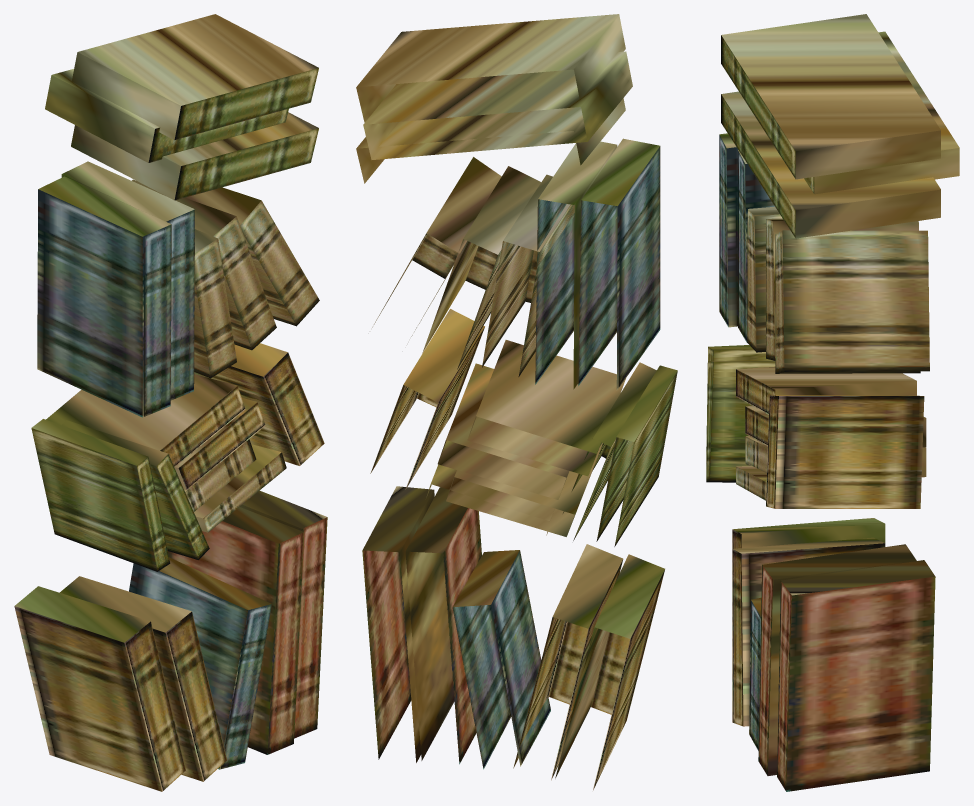
The model's file is book34_2.glb.
The picture shows the model from 3 angles, left to right: view 1: azimuth 30°, elevation 25°; view 2: azimuth 150°, elevation 25°; view 3: azimuth 270°, elevation 25°; orthographic projection. The views are drawn at different scales.
Visible parts, largest first — view 1: book34_2; view 2: book34_2; view 3: book34_2.
Part boxes in pixels (left/top/right/bottom): book34_2: left=14, top=14, right=327, bottom=791; book34_2: left=356, top=14, right=677, bottom=790; book34_2: left=706, top=14, right=959, bottom=791.
Size of the model in its own units: 165 by 407 by 136.
Materials: 1 (1 with a texture image).
